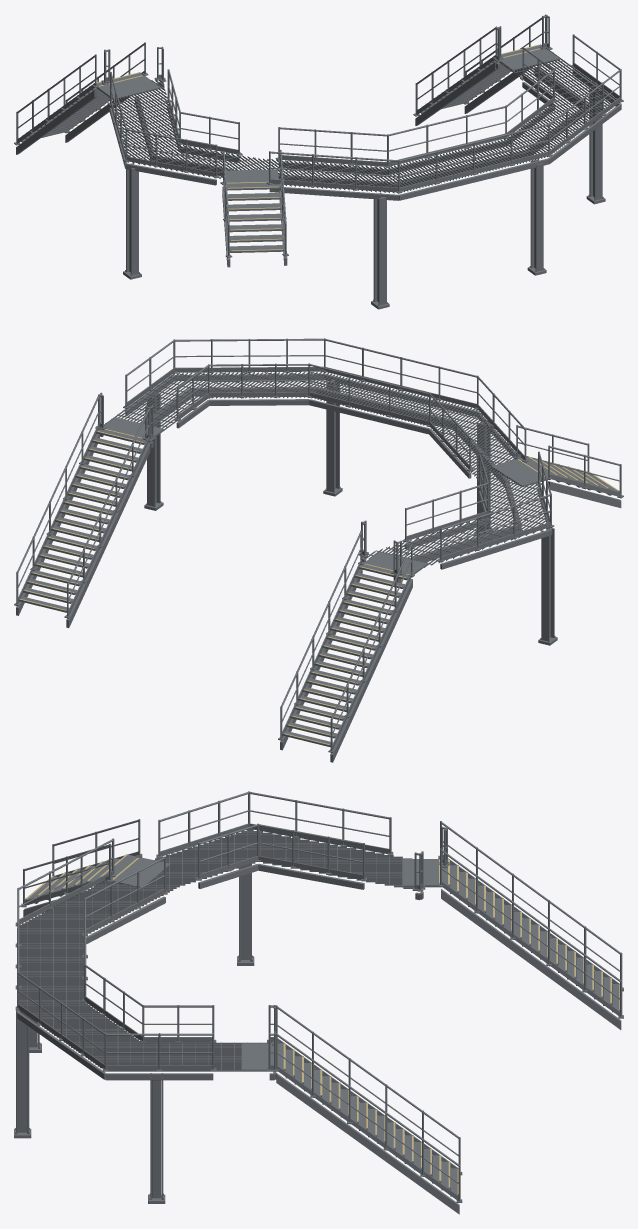
File: BO_C02_OperationsDeck.fbx
3 views of the same model, one above another, from view 1: azimuth 30°, elevation 25°; view 2: azimuth 150°, elevation 25°; view 3: azimuth 270°, elevation 25° (orthographic). The views are drawn at different scales.
Parts seen in each view (by area): view 1: BO_C02_OperationsDeck; view 2: BO_C02_OperationsDeck; view 3: BO_C02_OperationsDeck.
Part boxes in pixels (x1,y1,x2,y2): BO_C02_OperationsDeck: (14,14,623,309); BO_C02_OperationsDeck: (14,338,623,762); BO_C02_OperationsDeck: (14,791,623,1214).
Bounding box in the file's own units: 1436 × 494 × 1510.
